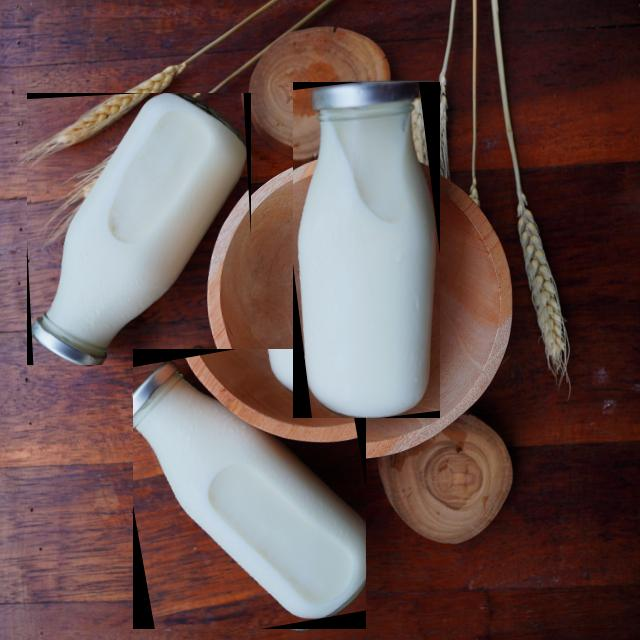Bottle: (132, 350, 364, 629), (27, 94, 250, 365), (293, 82, 438, 418)
